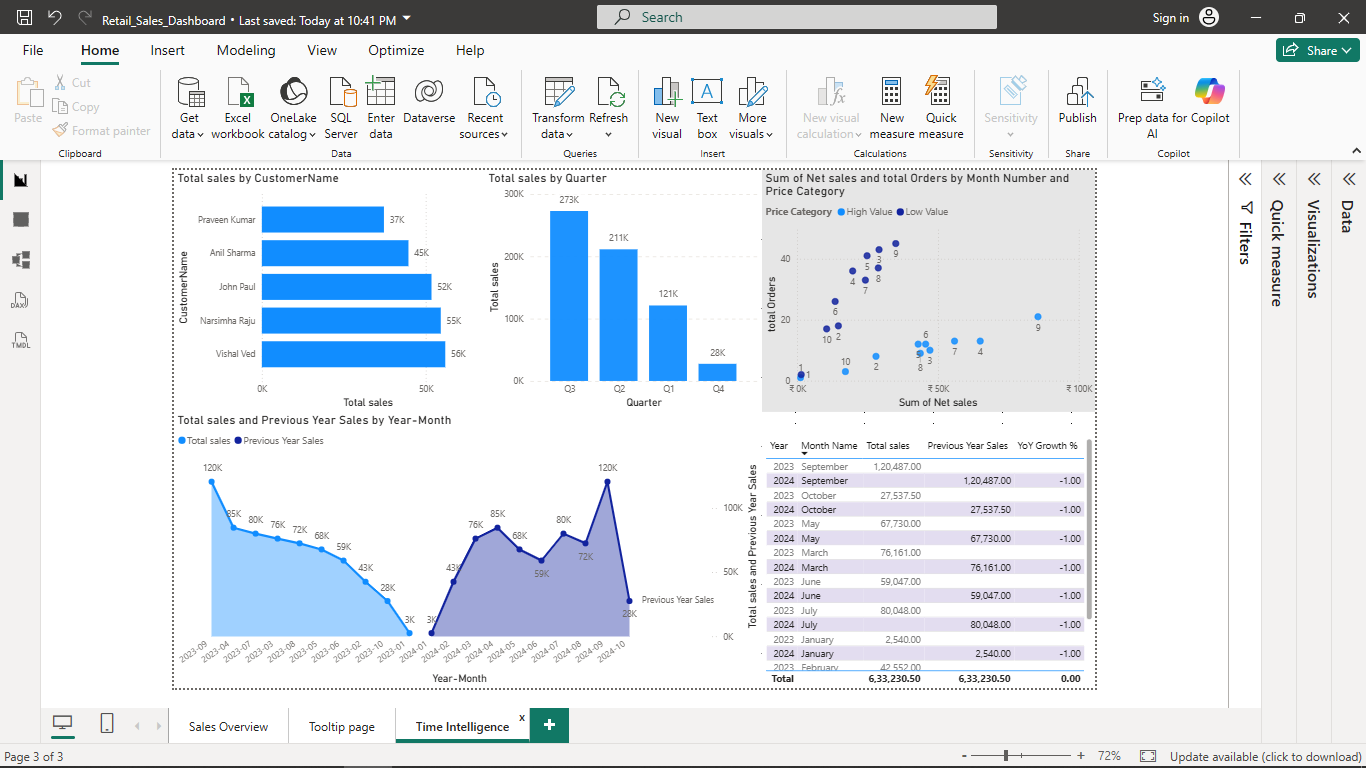

The dashboard page shown, as its layout file describes it:
{"tool":"powerbi","page":{"name":"Time Intelligence","canvas":[1280,720],"ordinal":2},"visuals":[{"type":"lineChart","fields":{"Category":["DimDate.Year-Month"],"Y2":["Measure (2).Total sales","Measure (2).Previous Year Sales"]},"box":[0,336,816,384],"z":1000},{"type":"tableEx","fields":{"Values":["DimDate.Year","DimDate.Month Name","Measure (2).Total sales","Measure (2).Previous Year Sales","Measure (2).YoY Growth %"]},"box":[816,368,464,352],"z":2000},{"type":"actionButton","box":[0,0,100,40],"z":4000},{"type":"barChart","fields":{"Category":["DimCustomers.CustomerName"],"Y":["Measure (2).Total sales"]},"box":[0,0,432,336],"z":4002},{"type":"lineStackedColumnComboChart","fields":{"Y":["Measure (2).Total sales"],"Category":["DimDate.Quarter"]},"box":[432,0,384,336],"z":4003},{"type":"scatterChart","fields":{"Category":["DimDate.Month Number"],"Series":["Factsales.Price Category"],"X":["Sum(Factsales.Net sales)"],"Y":["Measure (2).total Orders"]},"box":[816,0,464,336],"z":4004}]}

Visuals, with their boxes on the page's 1280x720 design canvas (x1, y1, x2, y2). These are canvas units, not pixel positions in the 1366x768 screenshot, which may show the page scaled, cropped or inside an application window:
lineChart - DimDate.Year-Month x Measure (2).Total sales: Rect(0, 336, 816, 720)
tableEx - DimDate.Year x DimDate.Month Name: Rect(816, 368, 1280, 720)
actionButton: Rect(0, 0, 100, 40)
barChart - DimCustomers.CustomerName x Measure (2).Total sales: Rect(0, 0, 432, 336)
lineStackedColumnComboChart - Measure (2).Total sales x DimDate.Quarter: Rect(432, 0, 816, 336)
scatterChart - DimDate.Month Number x Factsales.Price Category: Rect(816, 0, 1280, 336)
